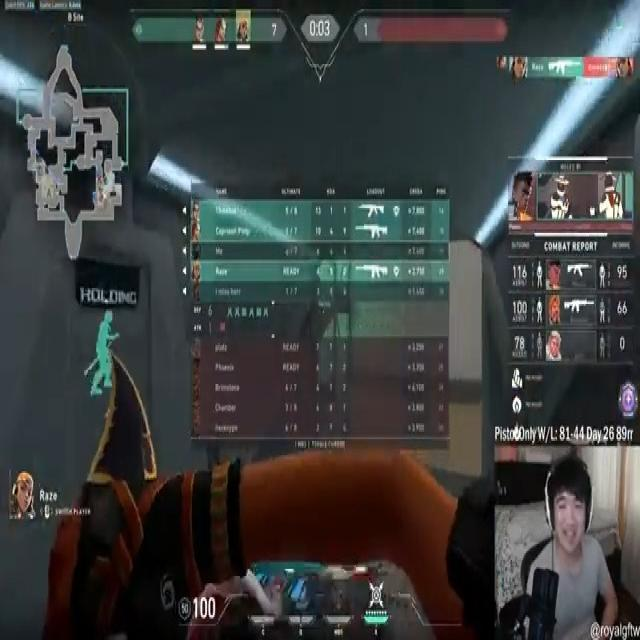ally behind wall: (90, 309, 118, 401)
